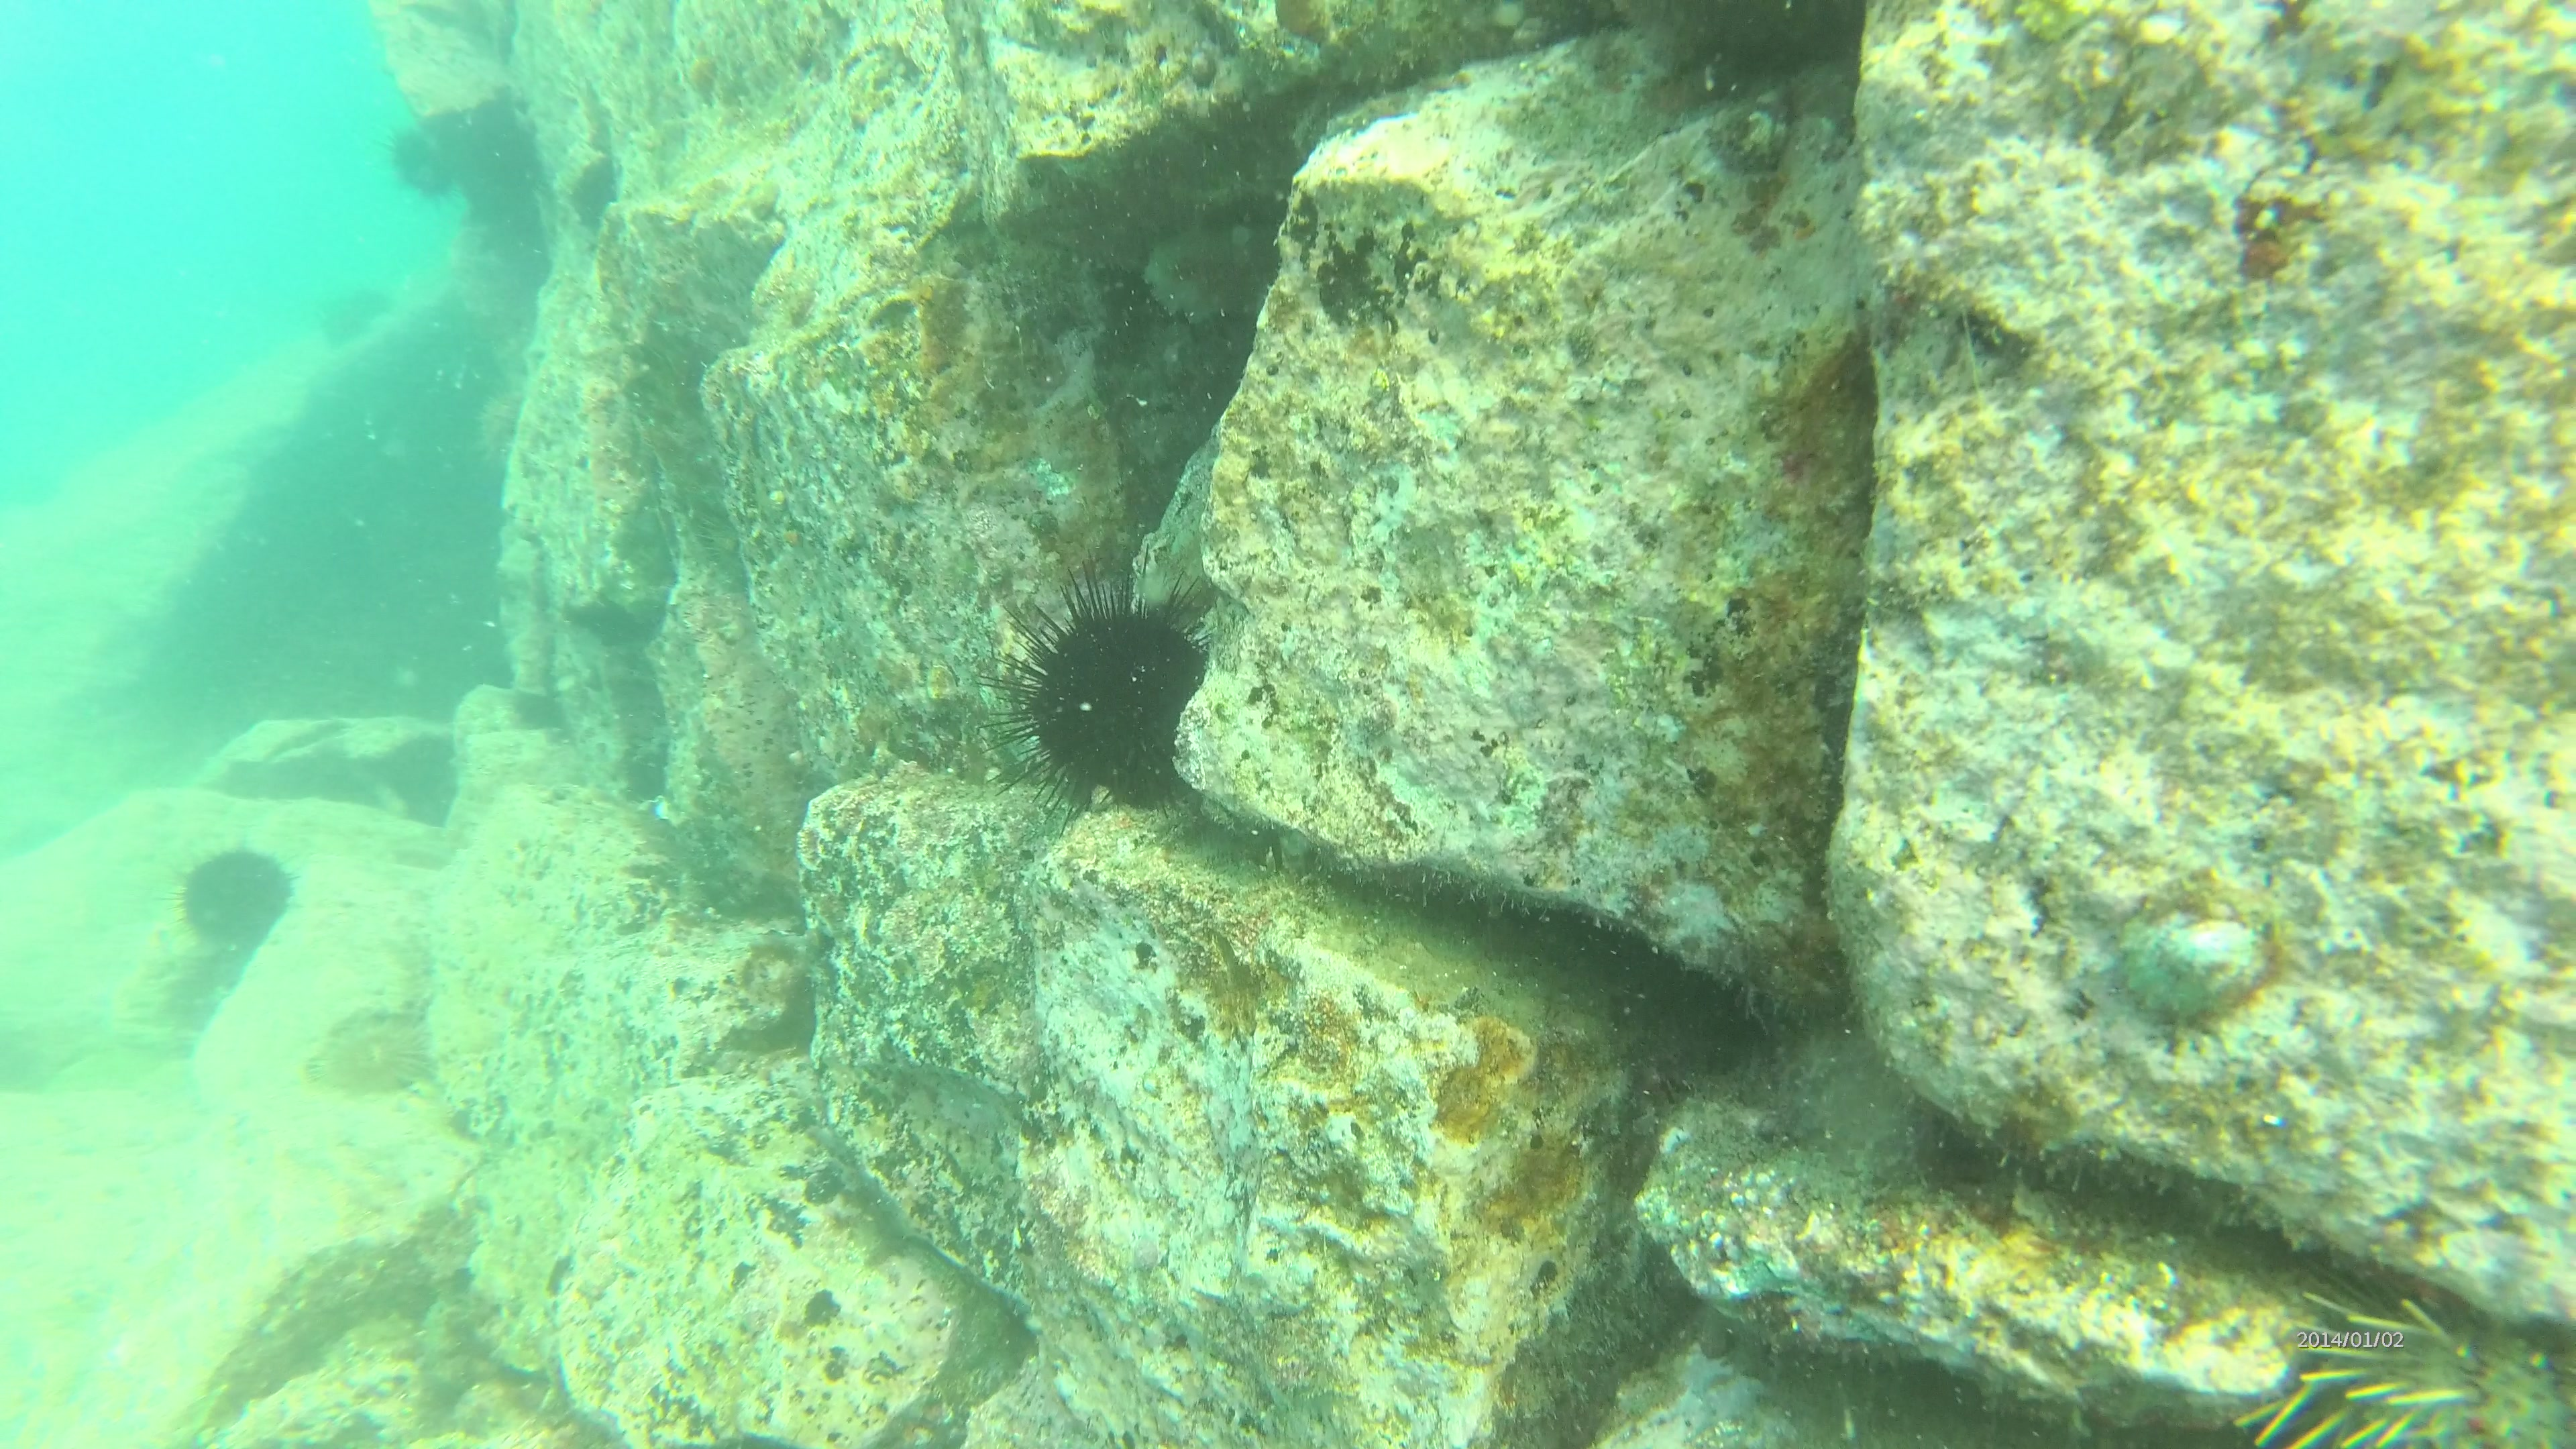echinus: (2245, 1260, 2574, 1449), (1014, 586, 1231, 803), (179, 842, 297, 945), (389, 117, 460, 209), (317, 288, 386, 347)
scallop: (2121, 908, 2273, 1021)
